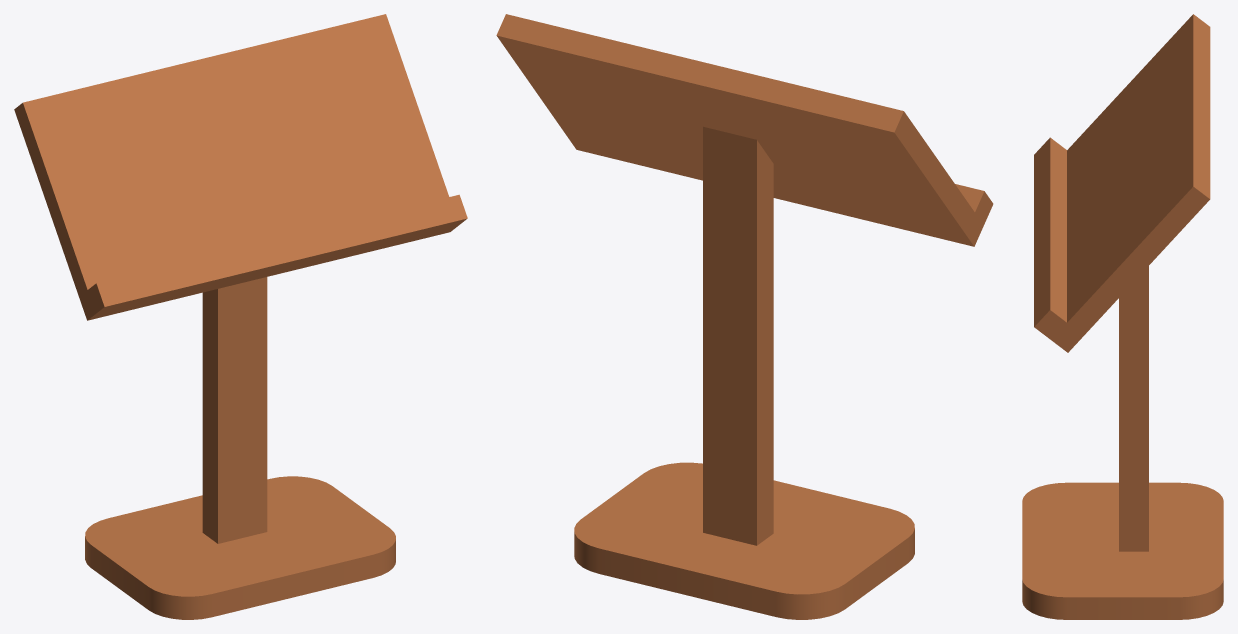
Rendered from stand.fbx.
The picture shows the model from 3 angles, left to right: view 1: azimuth 30°, elevation 25°; view 2: azimuth 150°, elevation 25°; view 3: azimuth 270°, elevation 25°; orthographic projection. The views are drawn at different scales.
Parts seen in each view (by area): view 1: stand; view 2: stand; view 3: stand.
Part boxes in pixels (x1,y1,x2,y2): stand: (14, 14, 467, 619); stand: (496, 14, 993, 619); stand: (1022, 14, 1223, 619).
Size of the model in its own units: 0.7527 by 0.9407 by 0.3718.
